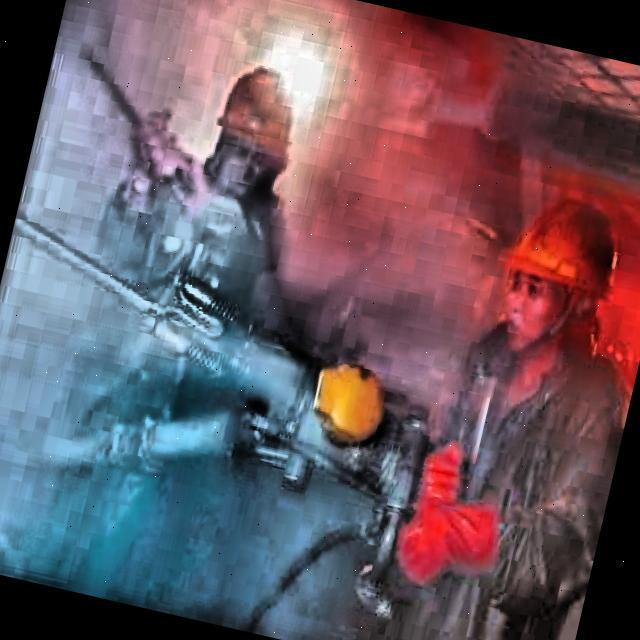helmet: (484, 186, 628, 369), (189, 40, 319, 231)
